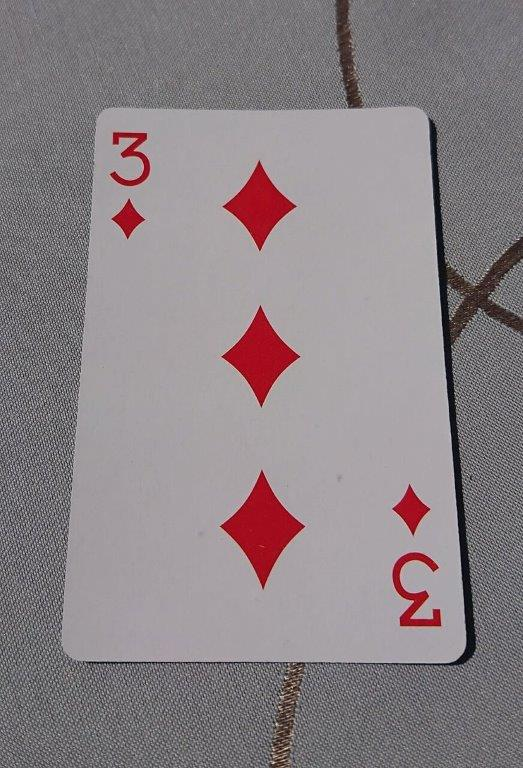3D: (59, 105, 470, 666)
